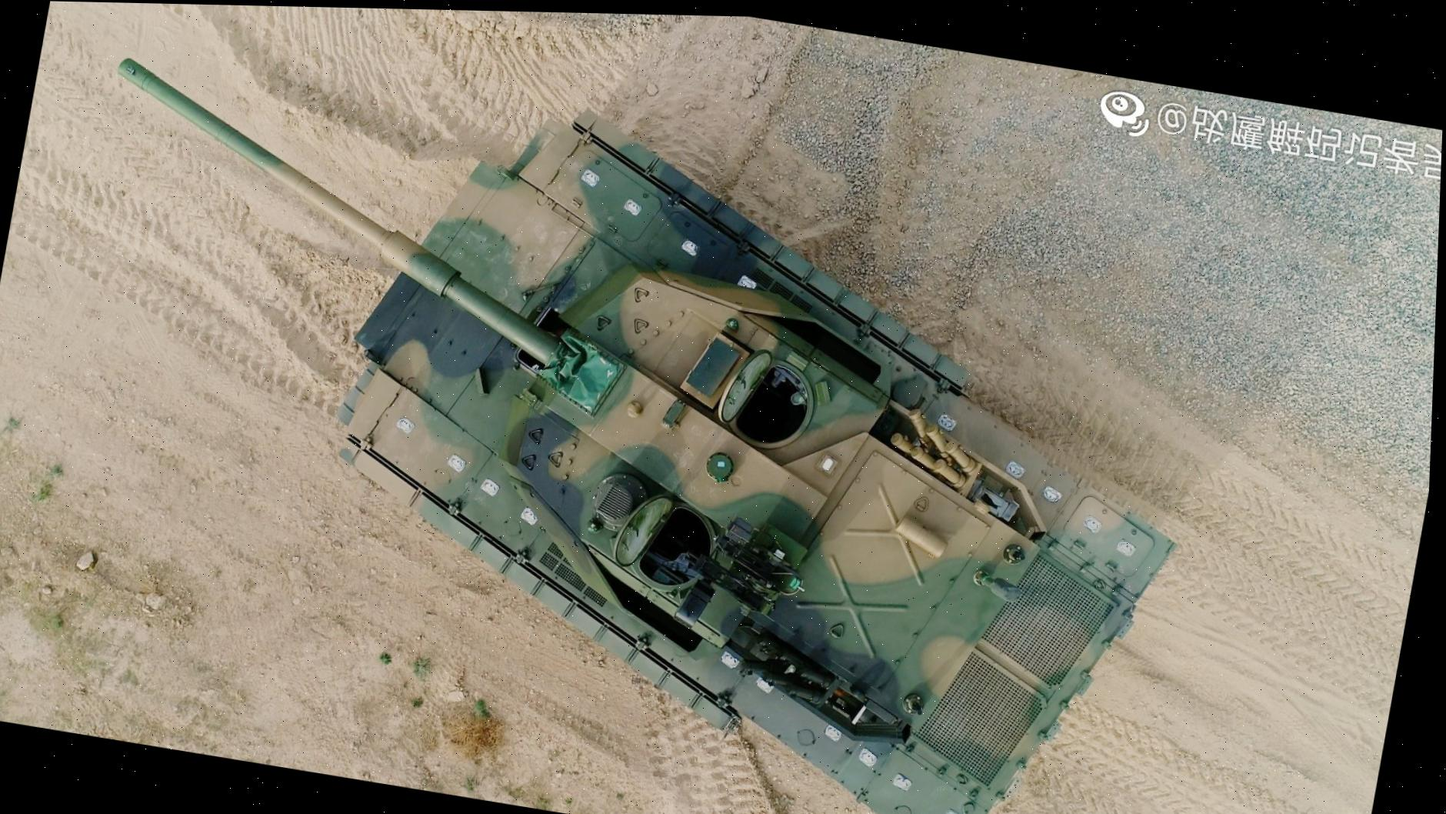tank: (0, 21, 1257, 814)
